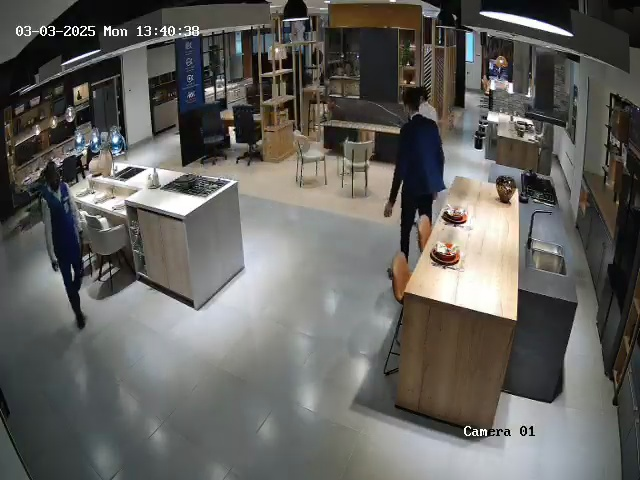employee: (384, 87, 446, 259), (38, 161, 87, 330)
male: (405, 64, 455, 125)
